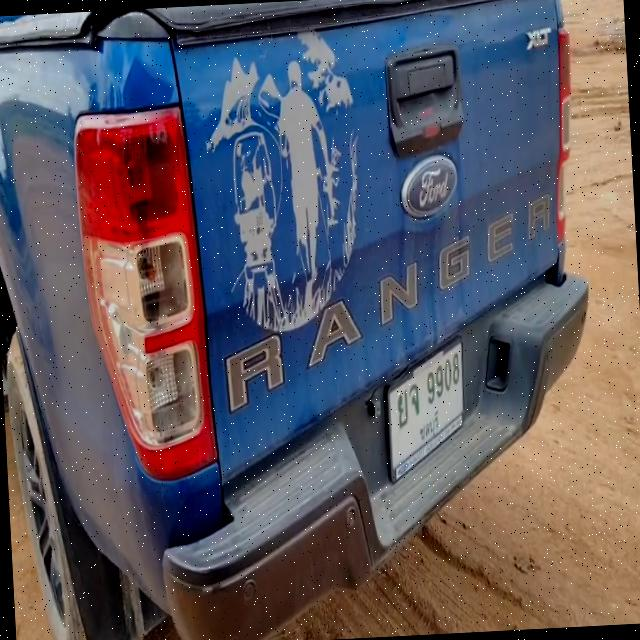Digit: (424, 352, 462, 406)
Licenseplate: (382, 330, 467, 488)
Provincename: (417, 410, 440, 440)
Thaichar: (395, 382, 423, 430)
